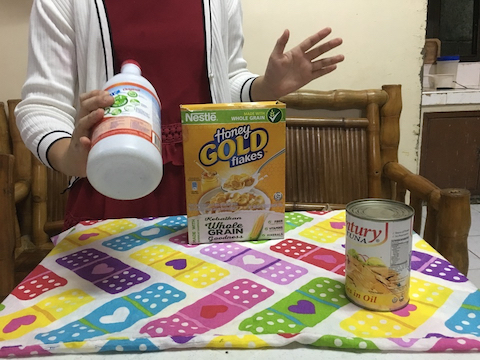bottle: (83, 53, 168, 203)
box: (179, 96, 295, 249)
can: (342, 197, 416, 314)
grab: (69, 83, 117, 155)
